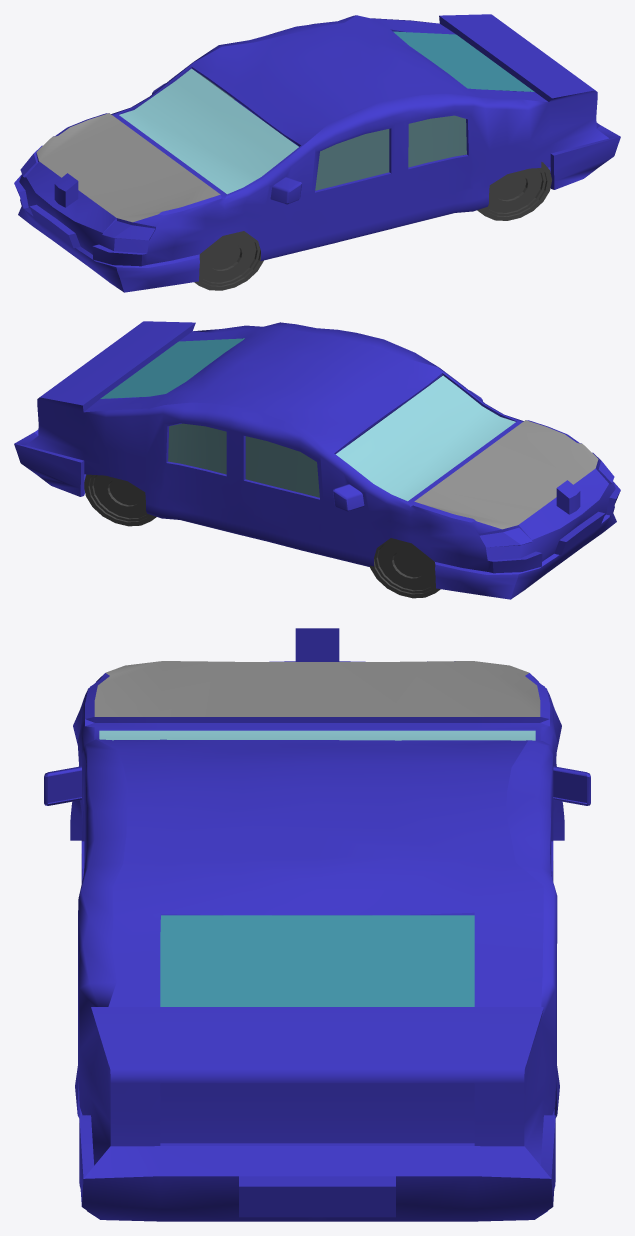
File: CarVer01.fbx
The picture shows the model from 3 angles, top to bottom: view 1: azimuth 30°, elevation 25°; view 2: azimuth 150°, elevation 25°; view 3: azimuth 270°, elevation 25°; orthographic projection. The views are drawn at different scales.
Visible parts, largest first — view 1: Box001, Object001, Object005, Object003, Object004, Cylinder003, Cylinder004; view 2: Box001, Object001, Object005, Object003, Object004, Cylinder001, Cylinder002; view 3: Box001, Object004, Object005, Object001.
Boxes of the visible parts, x1,y1,x2,y2 form: Box001: (14,14,620,292); Object001: (119,68,298,194); Object005: (36,113,220,222); Object003: (199,73,466,190); Object004: (393,31,534,91); Cylinder003: (194,231,263,290); Cylinder004: (463,154,551,220); Box001: (14,321,620,599); Object001: (336,375,515,501); Object005: (414,420,598,529); Object003: (168,381,434,497); Object004: (100,338,244,398); Cylinder001: (370,538,440,598); Cylinder002: (84,461,171,526); Box001: (44,628,590,1221); Object004: (160,915,474,1006); Object005: (94,661,540,716); Object001: (99,730,535,740).
Bounding box in the file's own units: 3370 × 866 × 1532.
